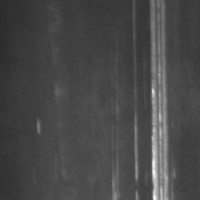scratches: (146, 1, 174, 200)
